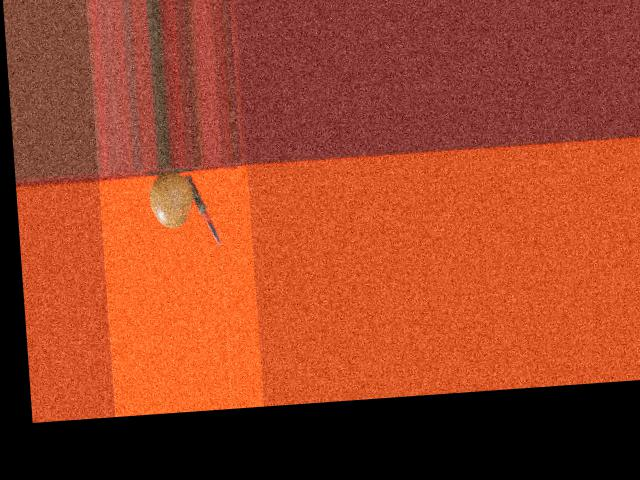egg: (148, 171, 195, 228)
